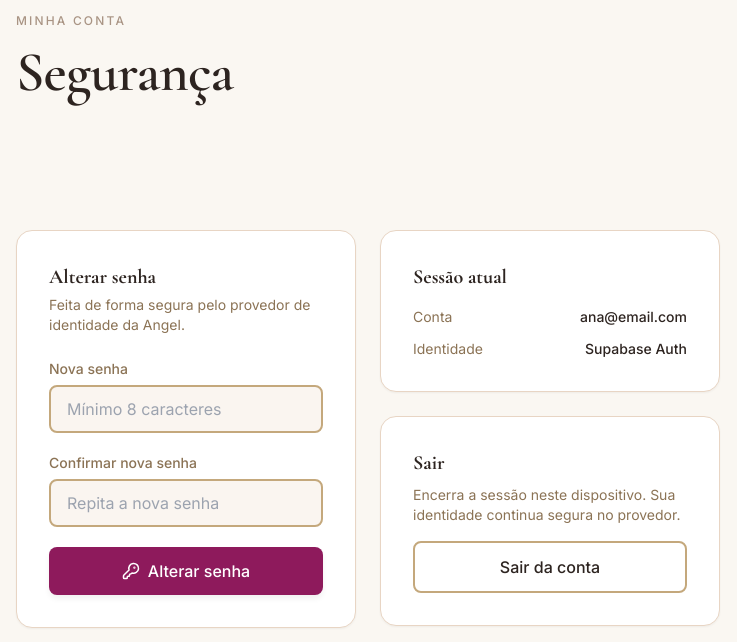
SegurancaPage › recusa confirmação divergente
In the password field labelled "Nova senha": (186, 409) top-left (49, 385), bottom-right (323, 433), type "senha-valida"
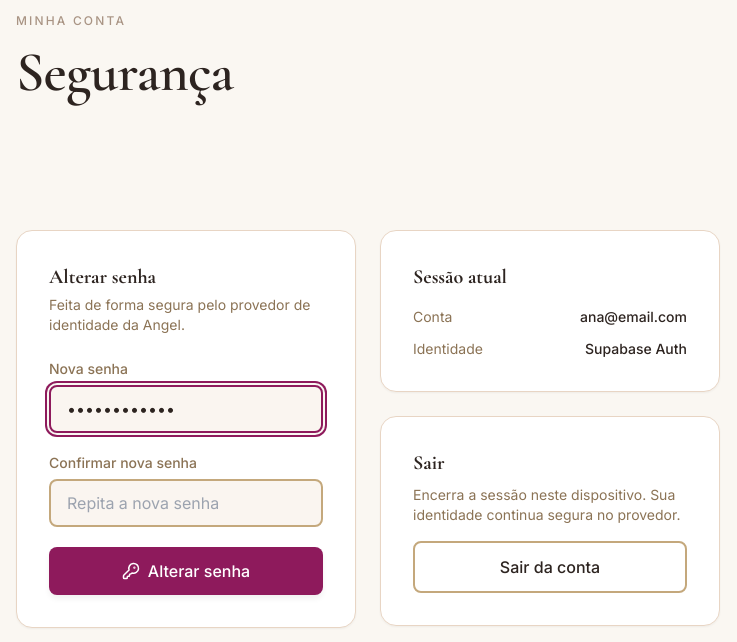
In the password field labelled "Confirmar nova senha": (186, 503) top-left (49, 479), bottom-right (323, 527), type "outra"
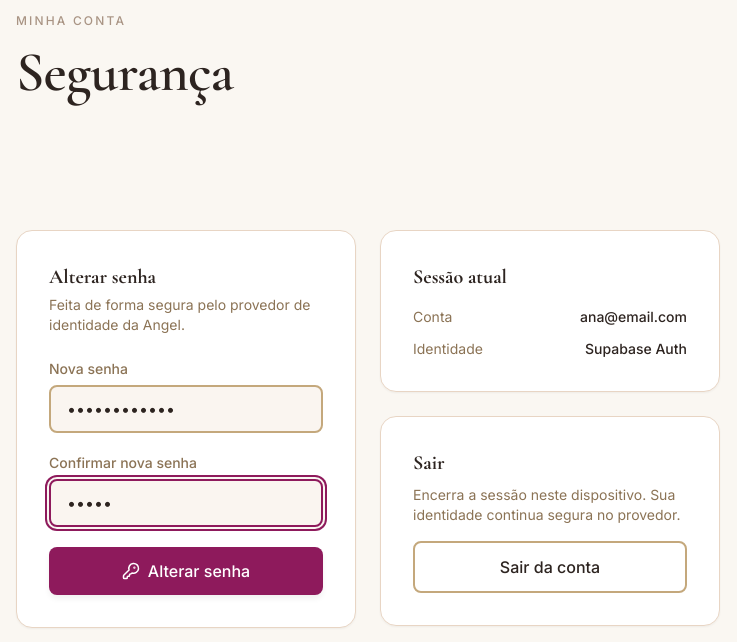
Click the button "Alterar senha": (186, 571) top-left (49, 547), bottom-right (323, 595)
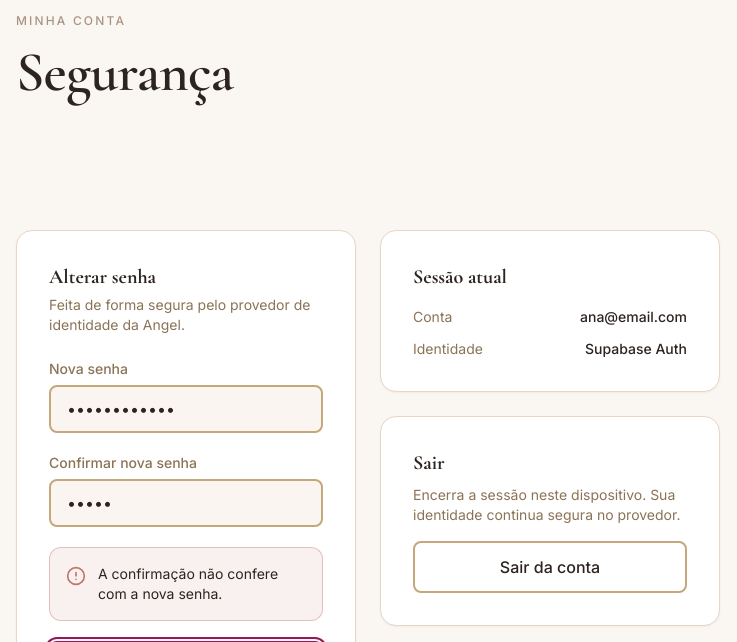
Expected: the text "A confirmação não confere com a nova senha." is shown, top-left (98, 564), bottom-right (306, 604)
